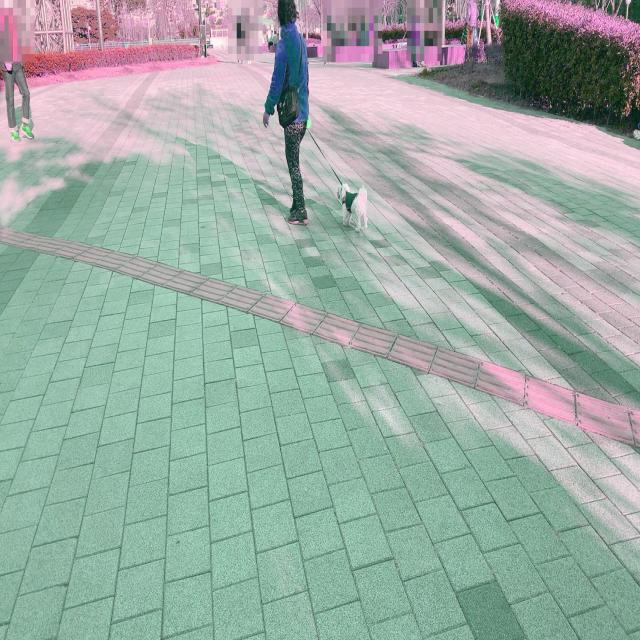Leashed_Dog: (296, 103, 370, 235)
